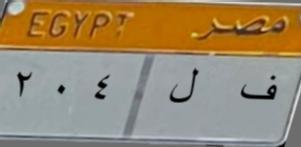0: (52, 72, 79, 106)
2: (13, 63, 42, 105)
4: (89, 68, 121, 110)
faa: (236, 73, 282, 106)
laam: (168, 66, 206, 109)
